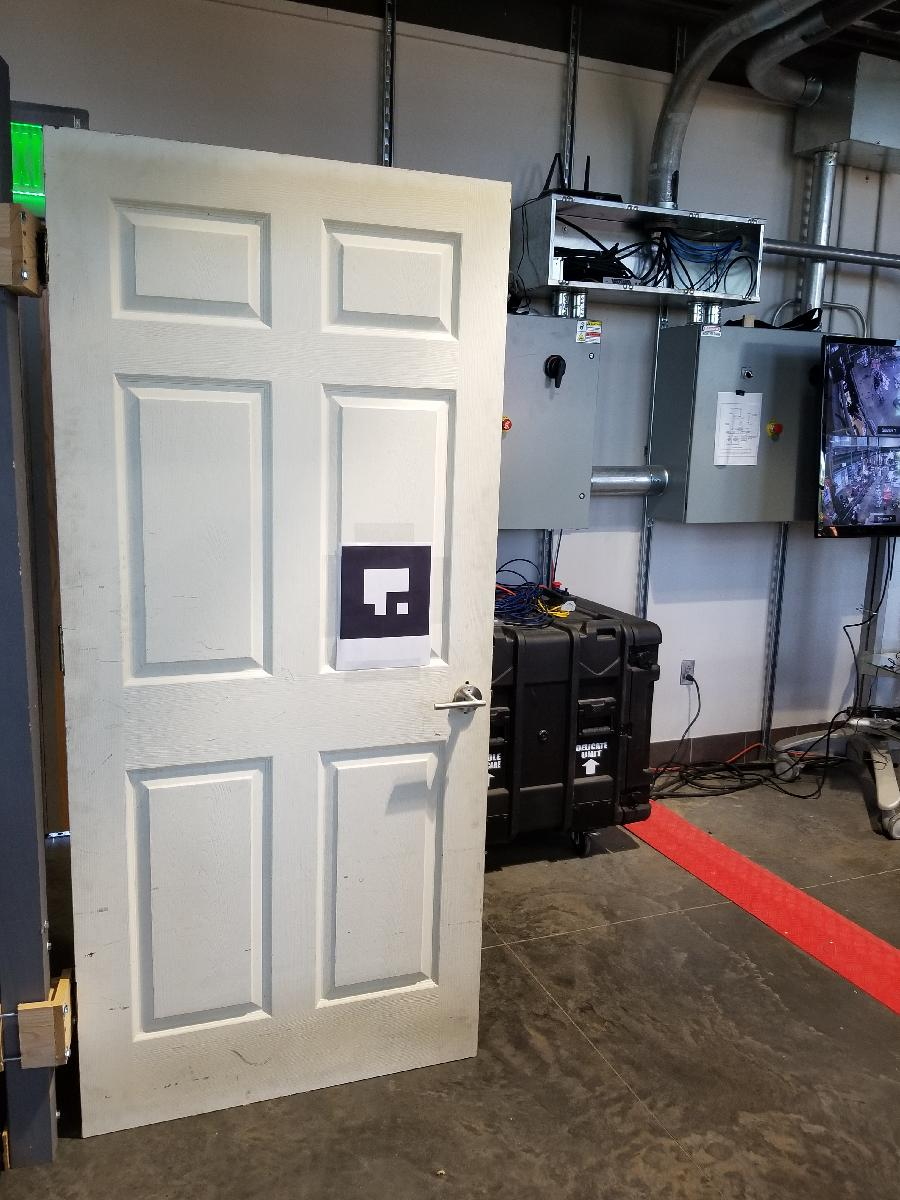door: (34, 108, 520, 1141)
doorHandle: (432, 683, 487, 715)
